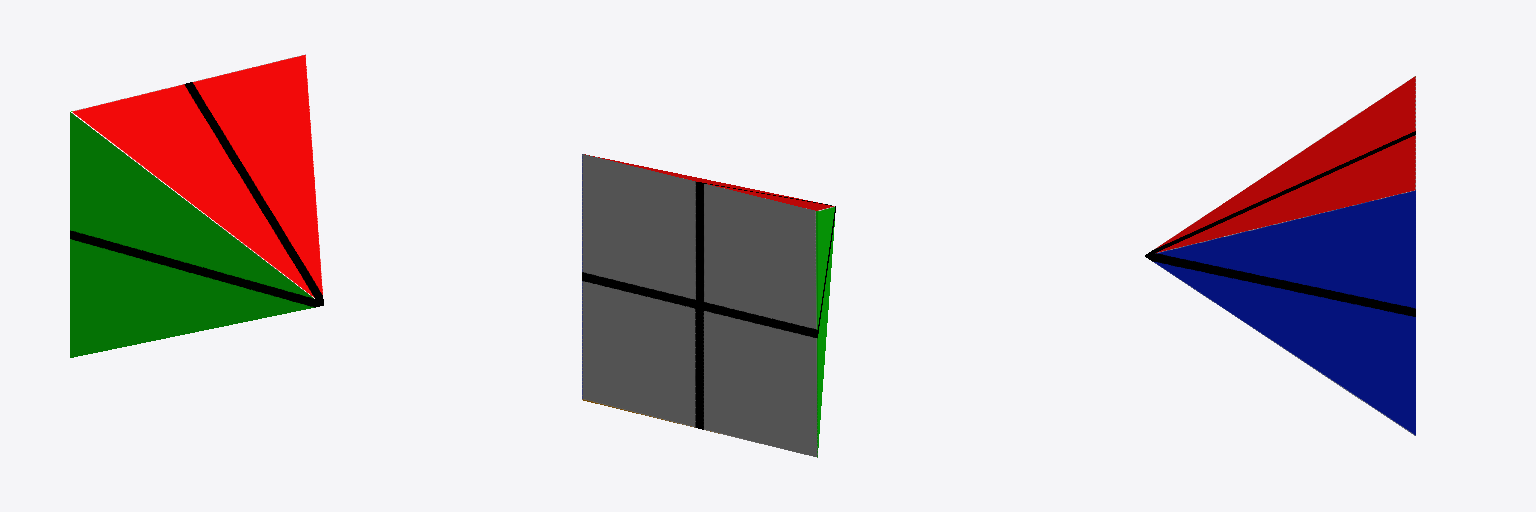
3 renders of one model, left to right at view 1: azimuth 30°, elevation 25°; view 2: azimuth 150°, elevation 25°; view 3: azimuth 270°, elevation 25°, orthographic.
Visible parts, largest first — view 1: default; view 2: default; view 3: default.
Boxes of the visible parts, box(x1,y1,x2,y2) form: default: box(70, 54, 323, 357); default: box(582, 154, 835, 457); default: box(1145, 76, 1415, 435).
Size of the model in its own units: 1 by 1 by 1.
1 materials, 1 textured.